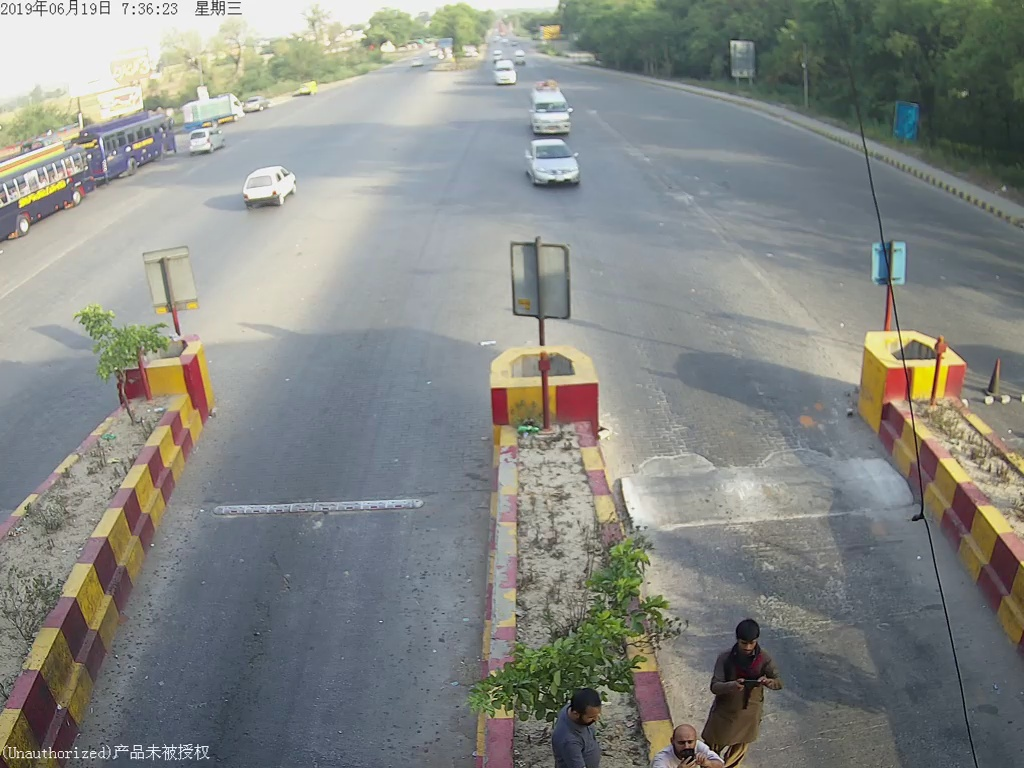Cat-1: (524, 138, 582, 190)
Cat-2: (531, 79, 578, 134)
